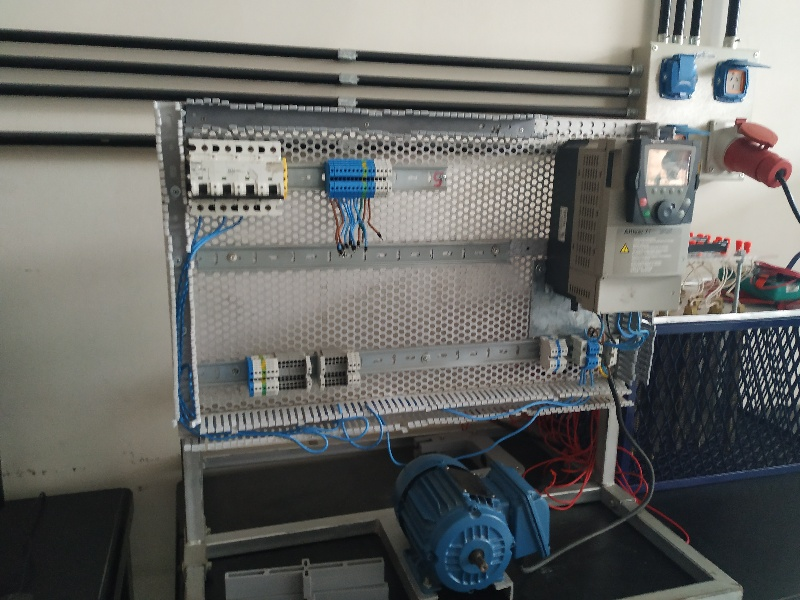Tablero 0: (171, 99, 699, 430)
